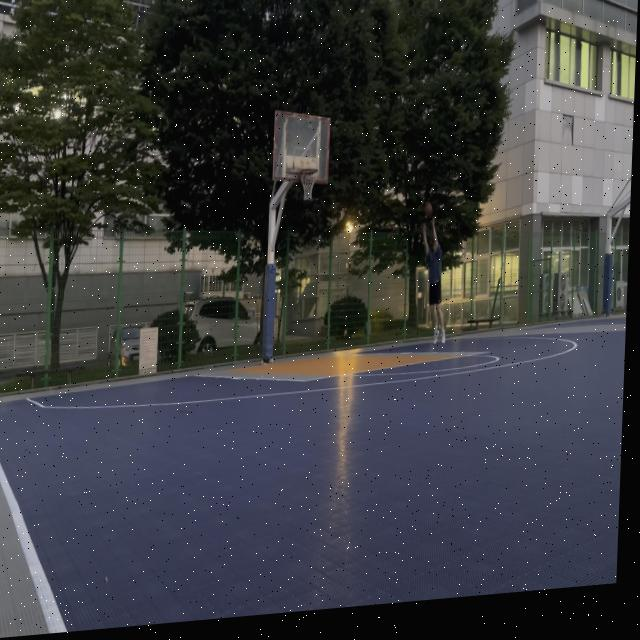basketball: (424, 201, 434, 218)
hoop: (299, 167, 318, 202)
